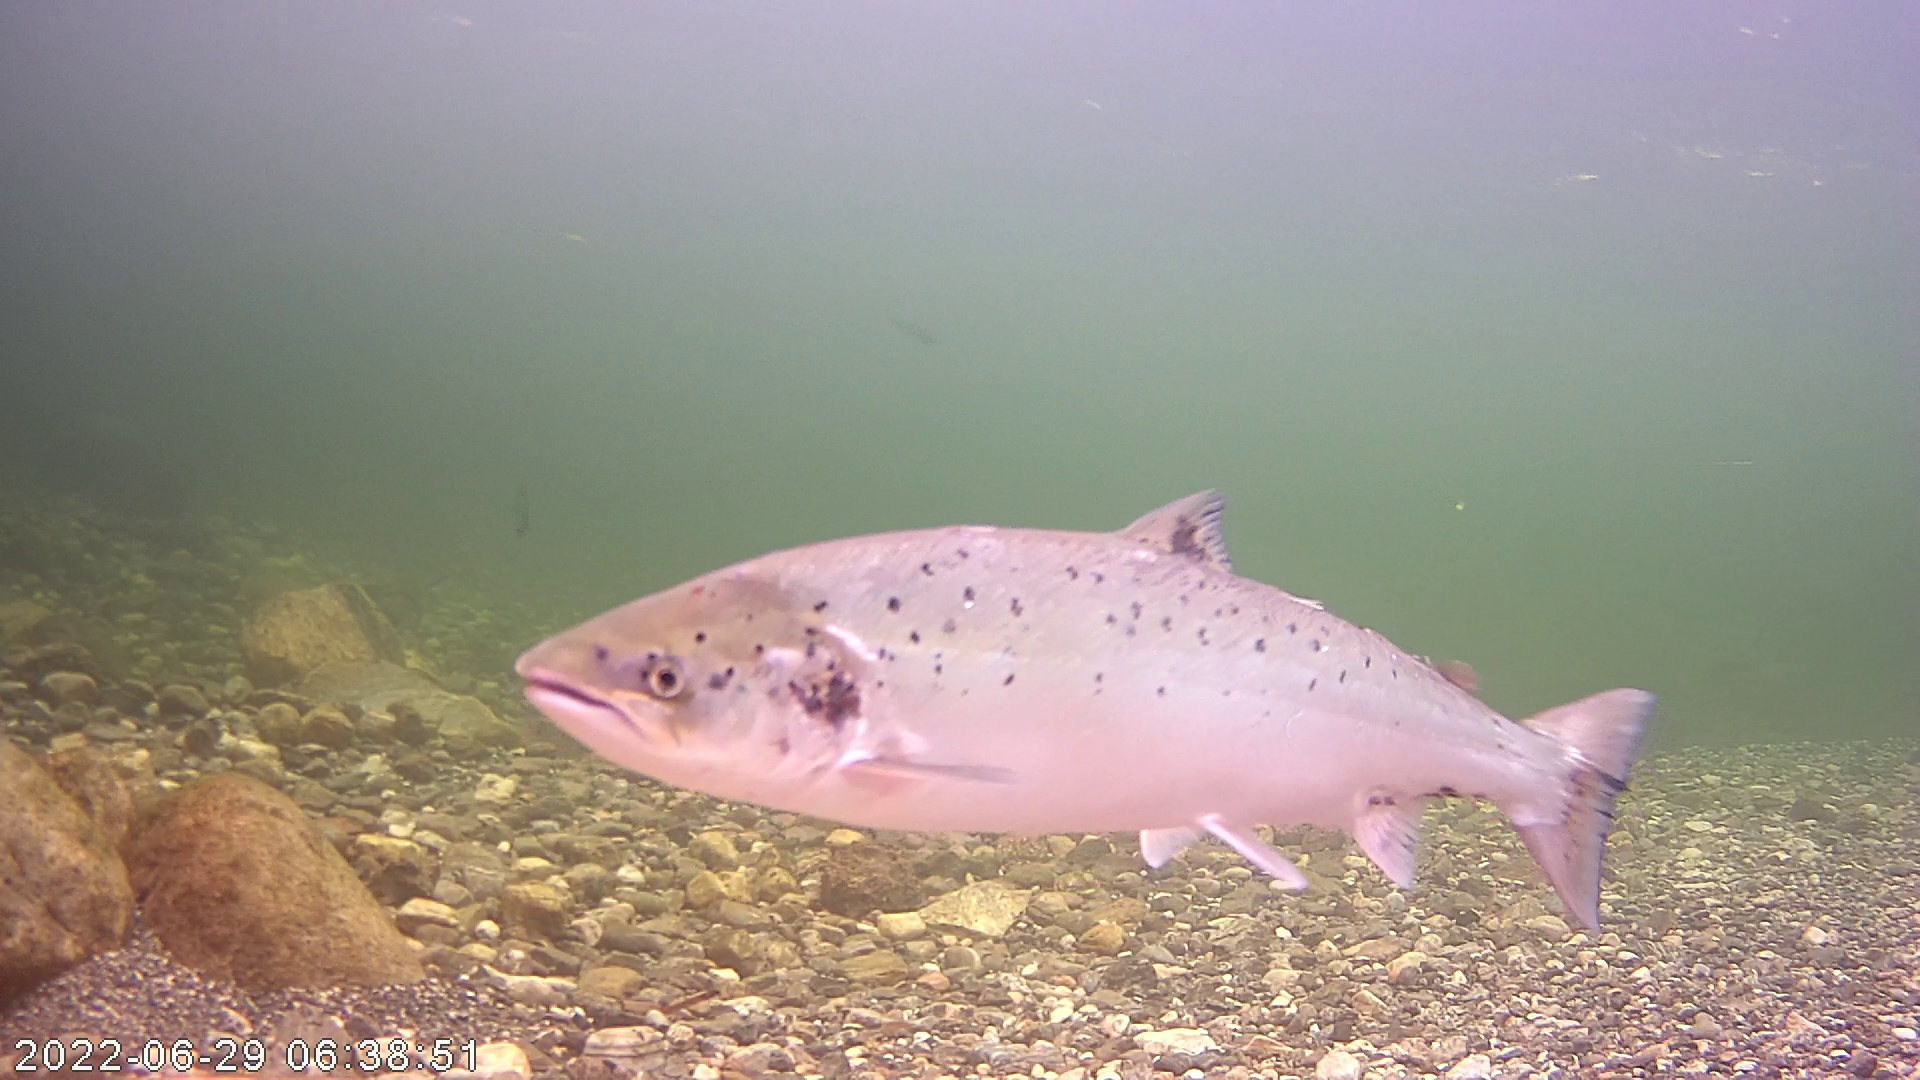salmon: (506, 483, 1655, 942)
